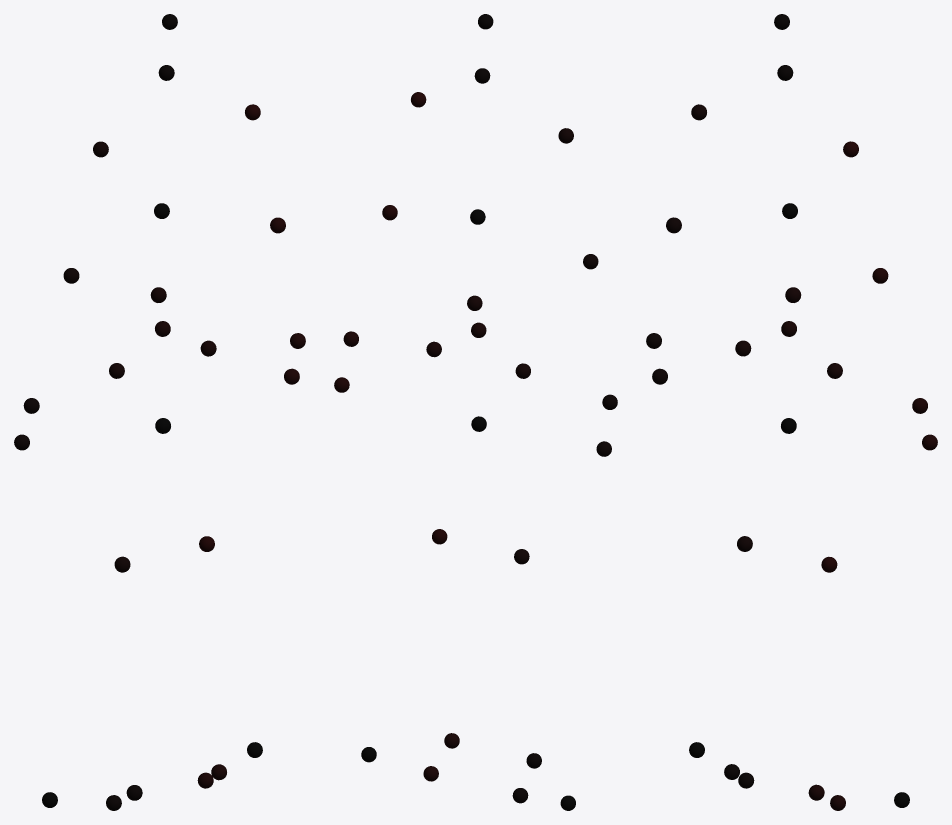
File: humano3.gltf
The picture shows the model from 3 angles, left to right: view 1: azimuth 30°, elevation 25°; view 2: azimuth 150°, elevation 25°; view 3: azimuth 330°, elevation 25°; orthographic projection. The views are drawn at different scales.
Size of the model in its own units: 2.04 by 5.45 by 0.4095.
